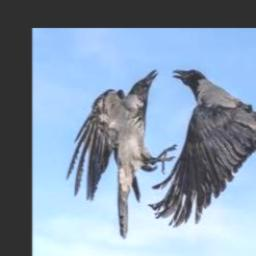Crow: (66, 69, 176, 237), (149, 69, 256, 227)
